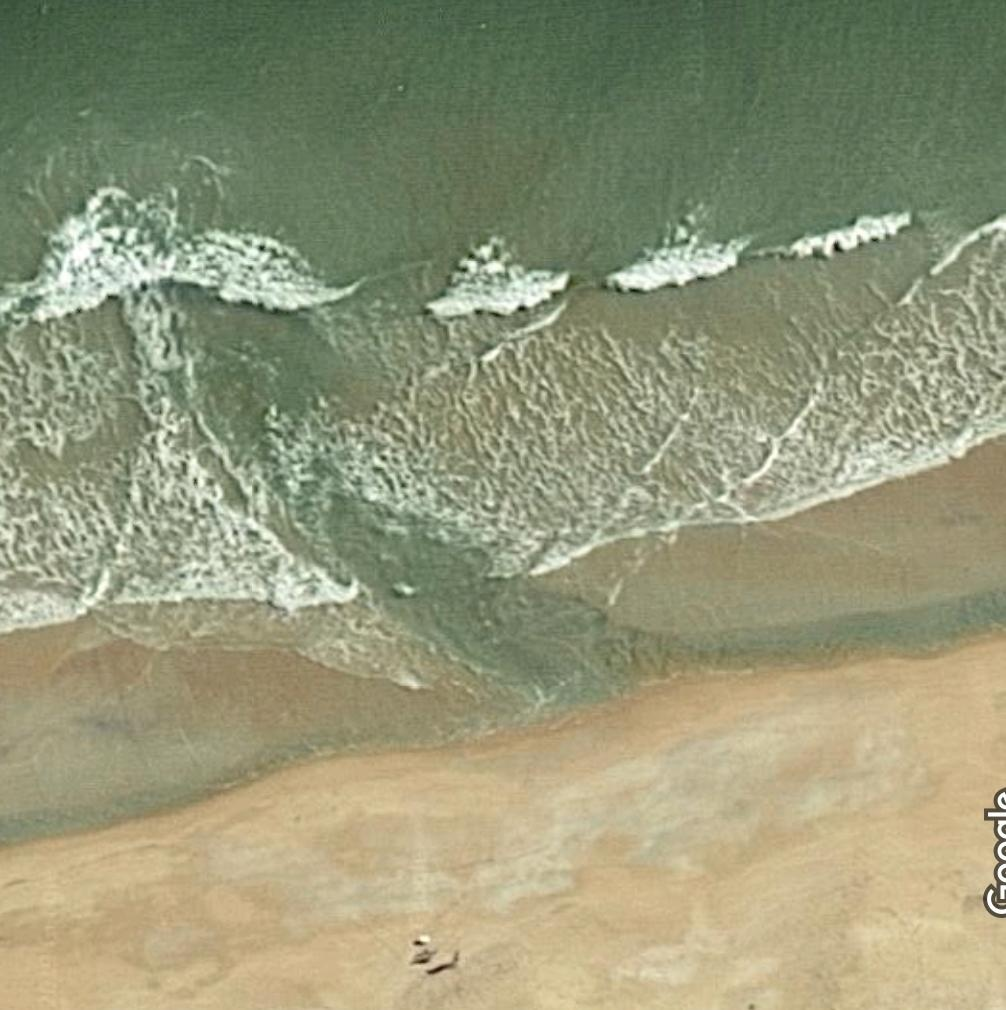rip_current: (49, 138, 518, 684)
